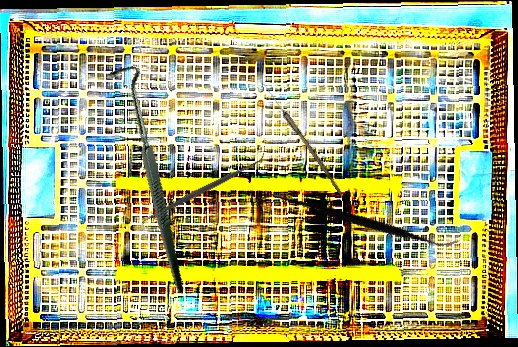Hook Surgical: (57, 60, 237, 294)
Spatula Surgical: (253, 146, 460, 298), (137, 150, 270, 229)
Surgical Spoon: (260, 82, 346, 196)
